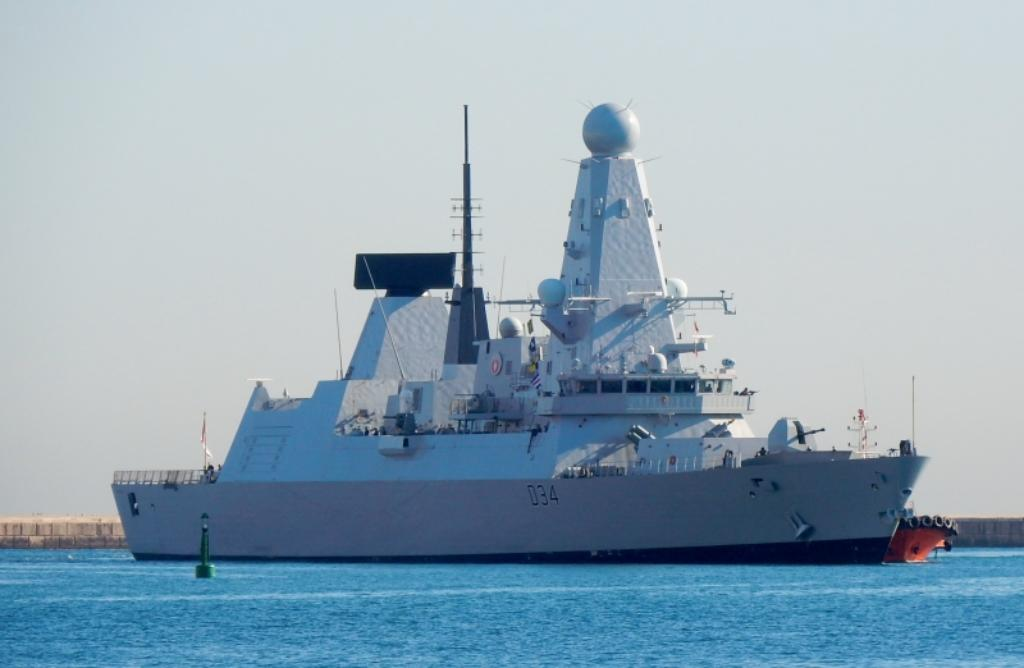Warship: (111, 98, 933, 566)
